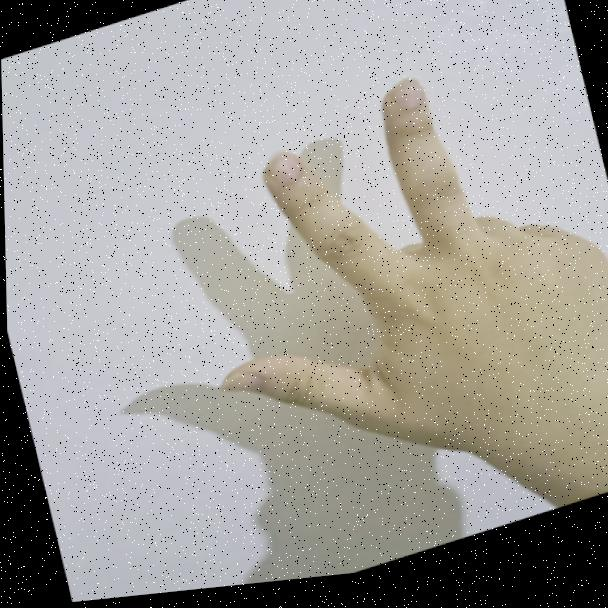one: (141, 30, 608, 522)
